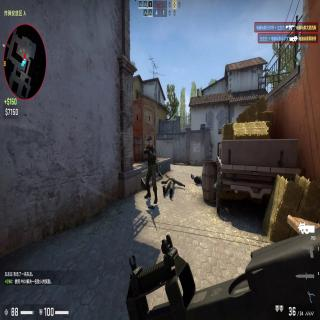T-Body: (143, 134, 158, 204)
T-Head: (147, 135, 153, 147)
